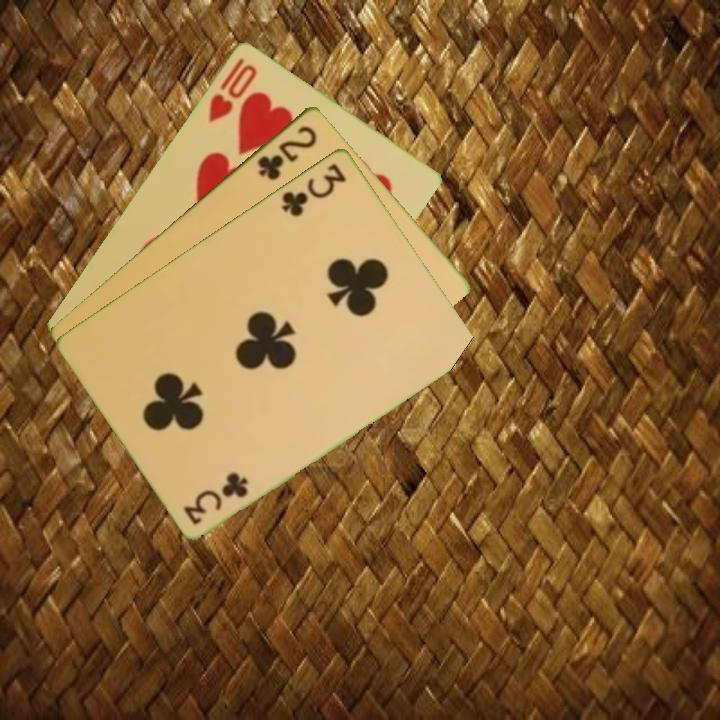10h: (204, 60, 260, 125)
2c: (254, 121, 320, 183)
3c: (278, 159, 349, 219), (180, 469, 251, 527)
